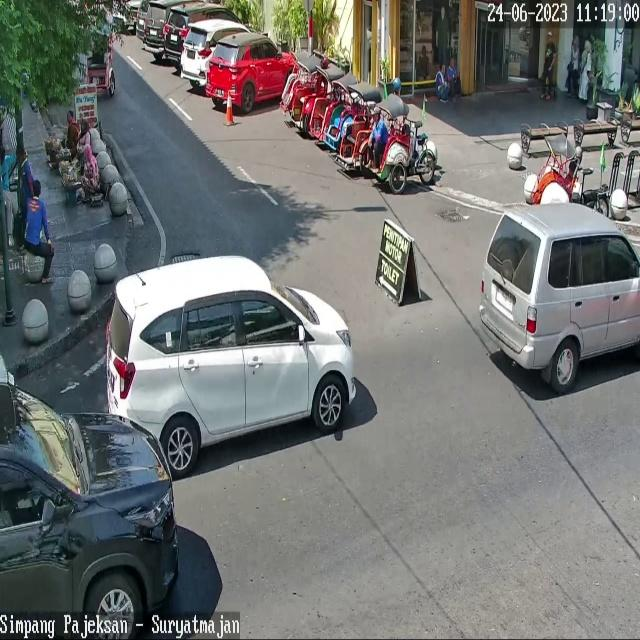motorcycle: (108, 255, 356, 474), (0, 382, 179, 640), (477, 204, 640, 392), (206, 33, 300, 111), (163, 3, 246, 65), (181, 21, 252, 87), (143, 0, 169, 53)
